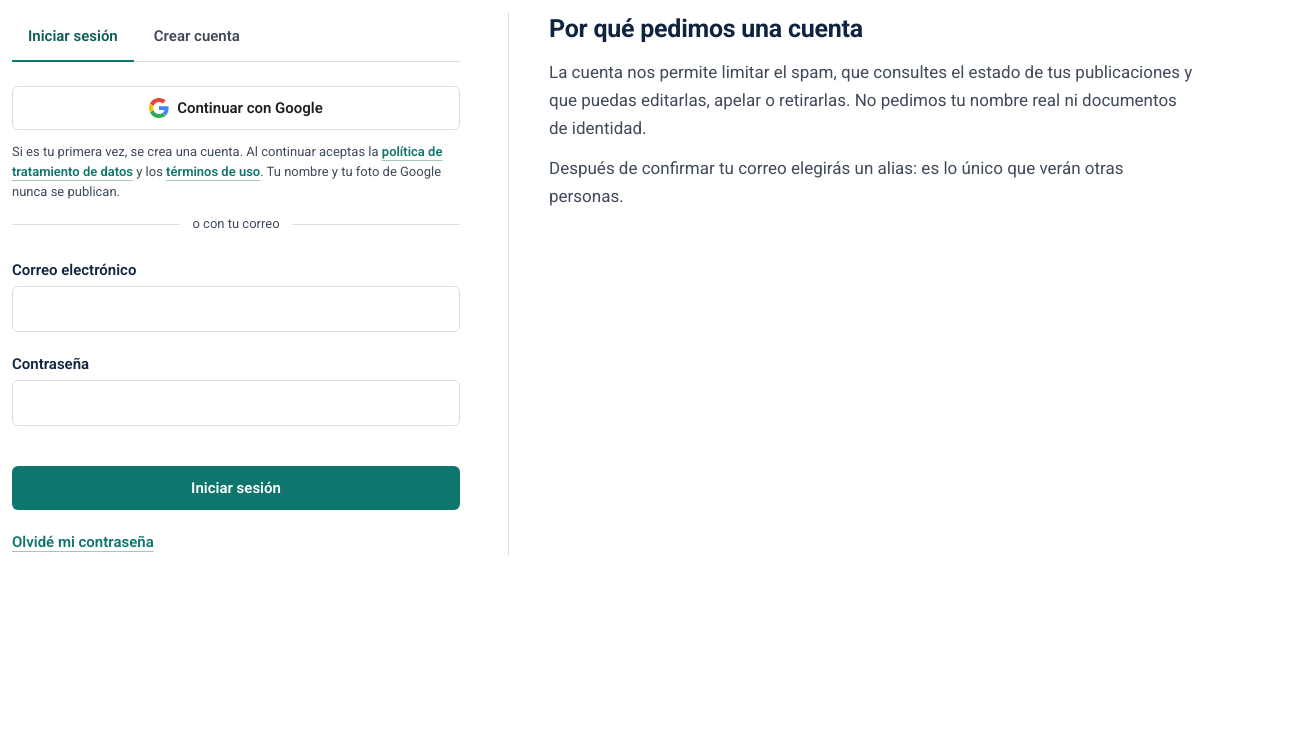
Turnstile en el acceso › con clave pública exige la verificación y envía el token a Supabase
Later steps or results of the test are not shown.
In the field labelled "Correo electrónico": (236, 309) [12, 286, 460, 332], type "ana@correo.co"
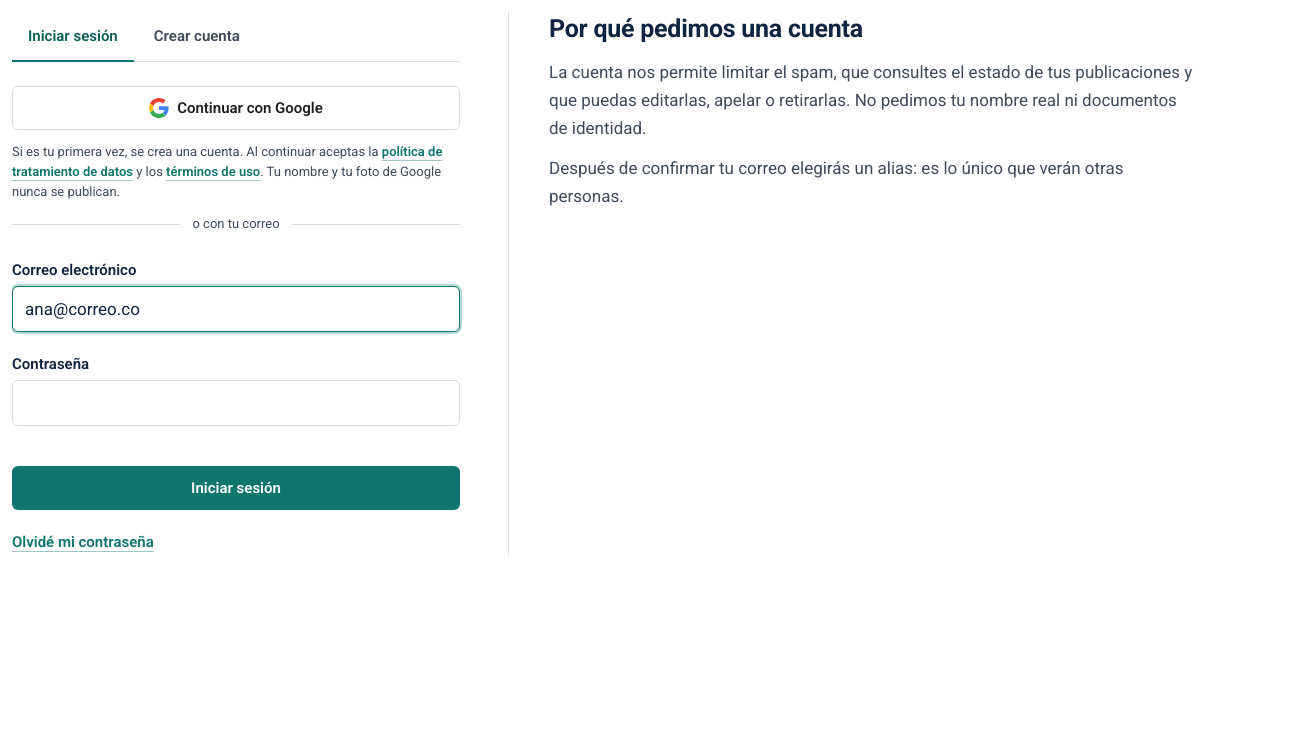
In the password field labelled "Contraseña": (236, 403) [12, 380, 460, 426], type "clave-segura-123"
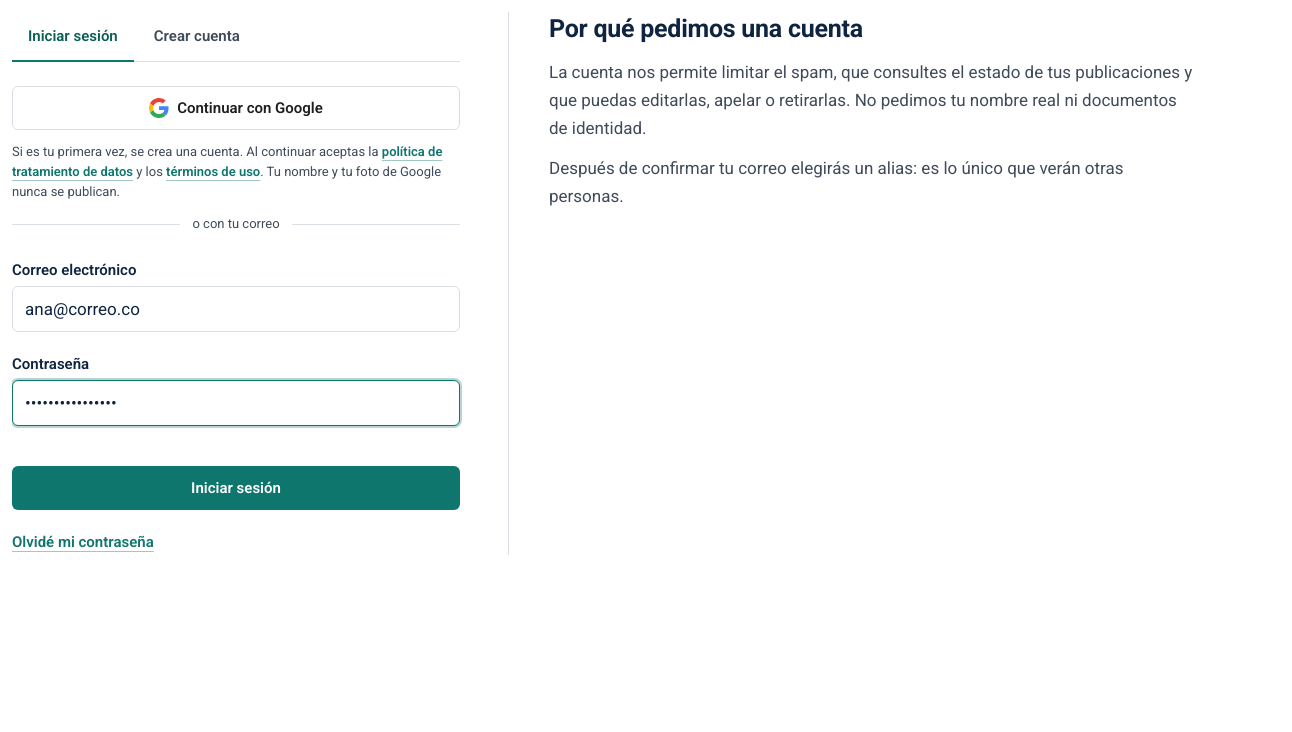
Click the button "Iniciar sesión": (236, 488) [12, 466, 460, 510]
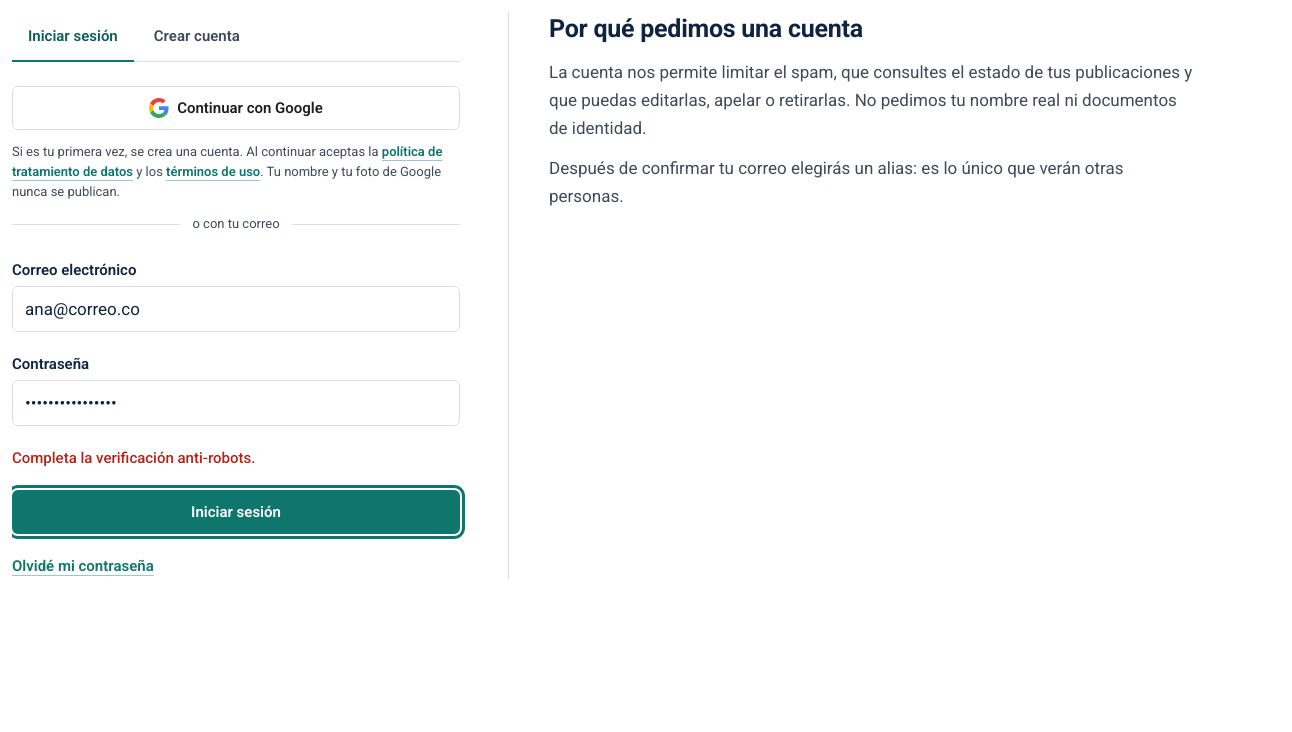
Expected: the text "Completa la verificación anti-robots." is shown, [12, 449, 255, 467]
